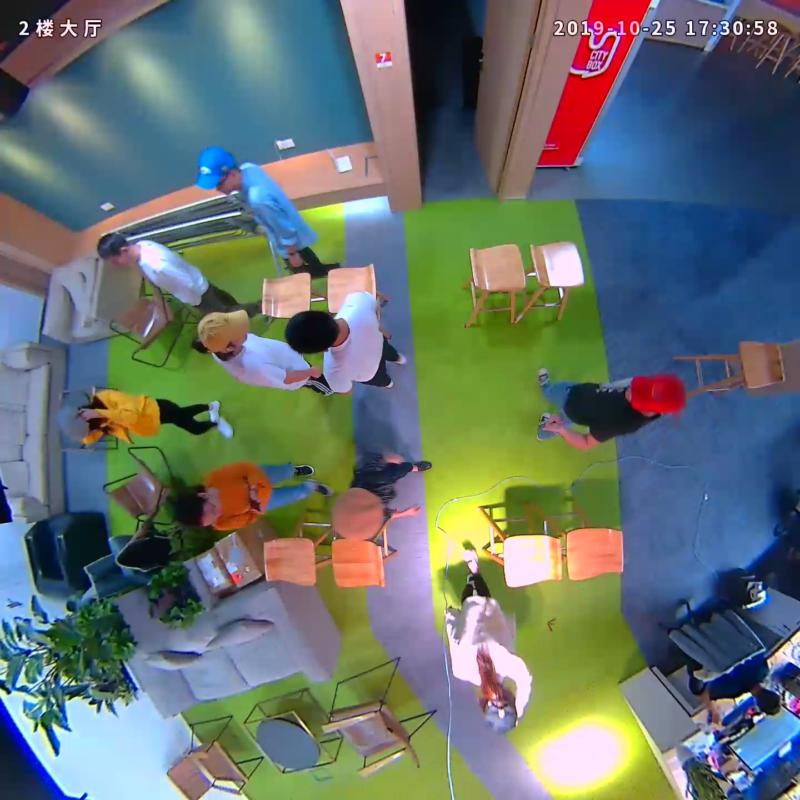head: (329, 487, 384, 541), (284, 310, 341, 355), (625, 374, 686, 416), (195, 145, 242, 197), (197, 309, 250, 354), (170, 488, 221, 528), (479, 687, 519, 735), (58, 403, 105, 440), (95, 233, 137, 268)
